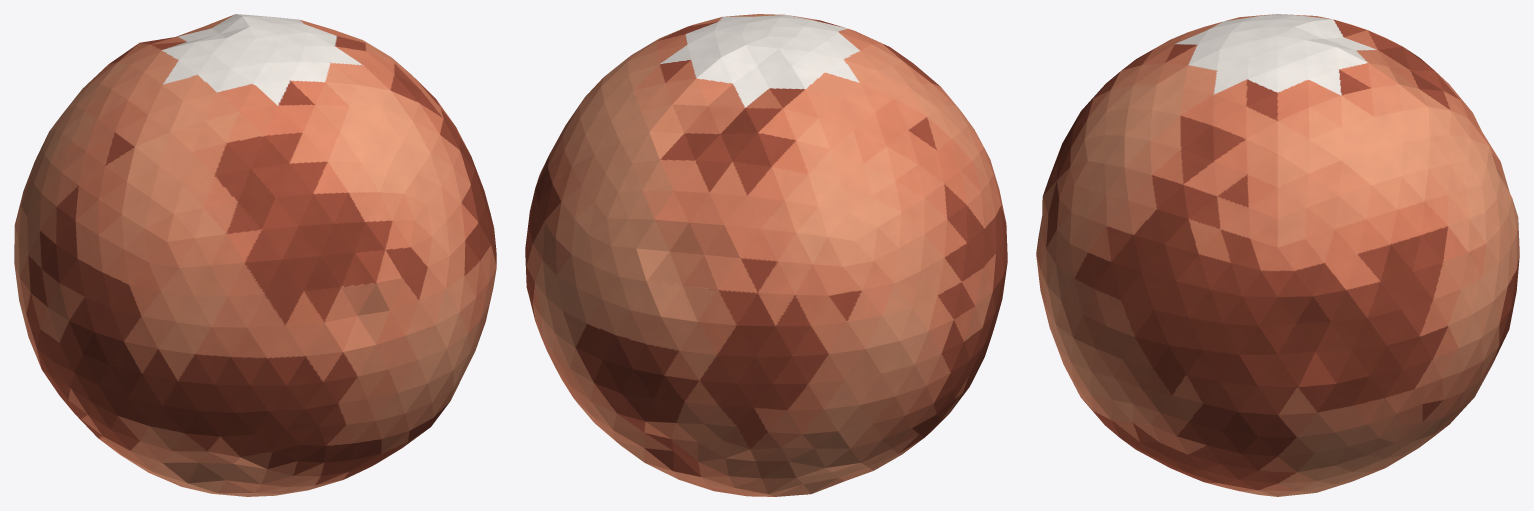
Rendered from mars.glb.
3 views of the same model, side by side, from view 1: azimuth 30°, elevation 25°; view 2: azimuth 150°, elevation 25°; view 3: azimuth 270°, elevation 25° (orthographic).
Visible parts, largest first — view 1: Mars; view 2: Mars; view 3: Mars.
Part boxes in pixels (x1=…): Mars: x1=14, y1=14, x2=496, y2=496; Mars: x1=525, y1=14, x2=1007, y2=496; Mars: x1=1036, y1=14, x2=1519, y2=496.
Size of the model in its own units: 2 by 2 by 2.01.
1 material, 1 textured.
